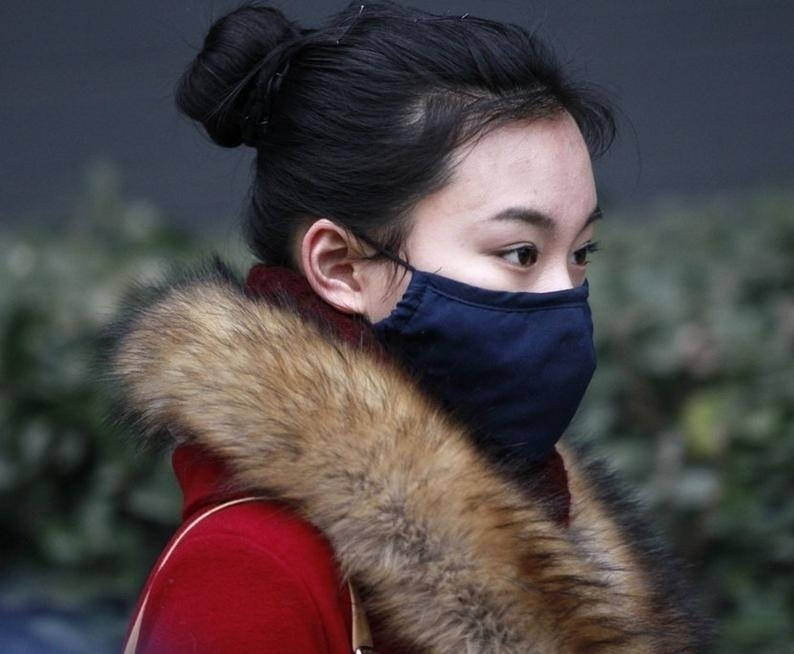face_mask: (394, 125, 602, 408)
